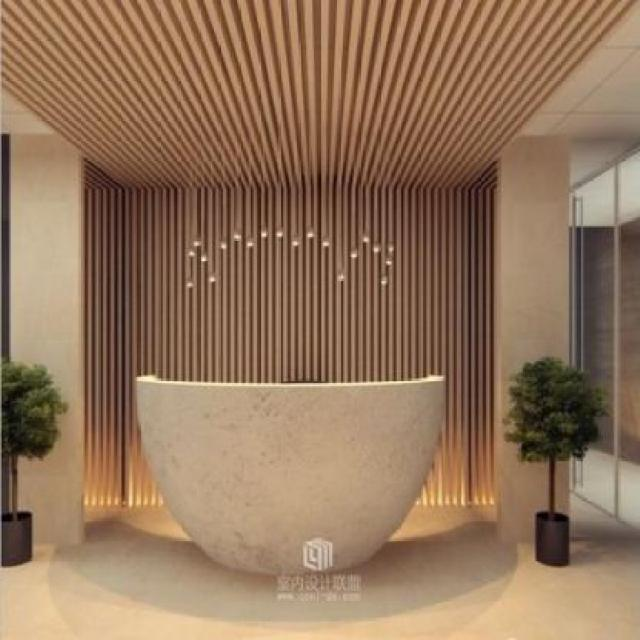frontdesk: (129, 366, 450, 592)
